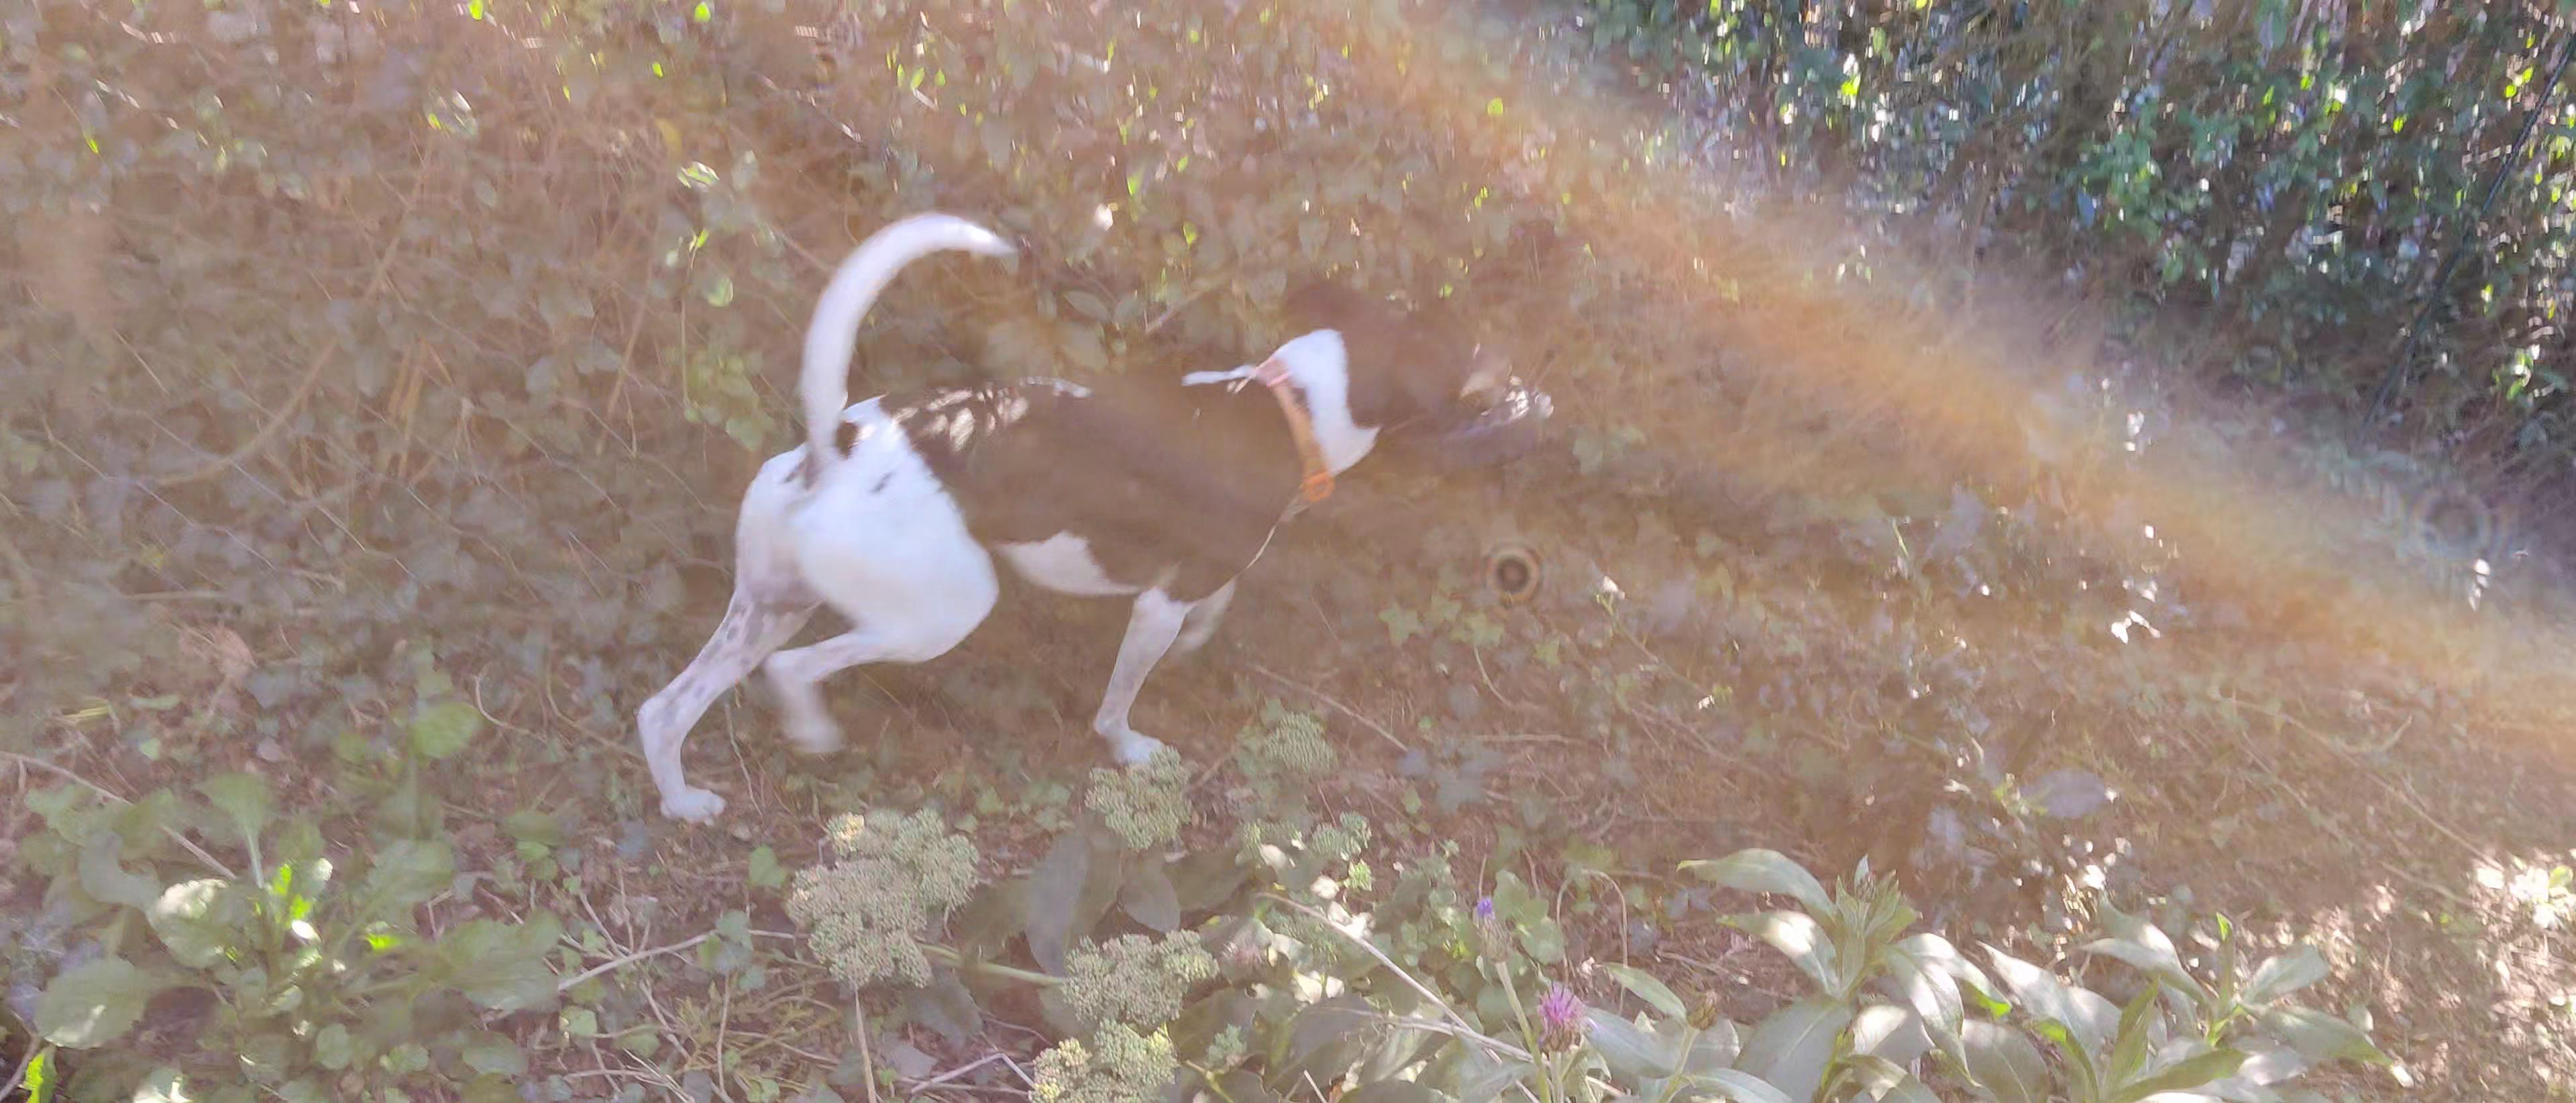Dog: (629, 205, 1515, 825)
